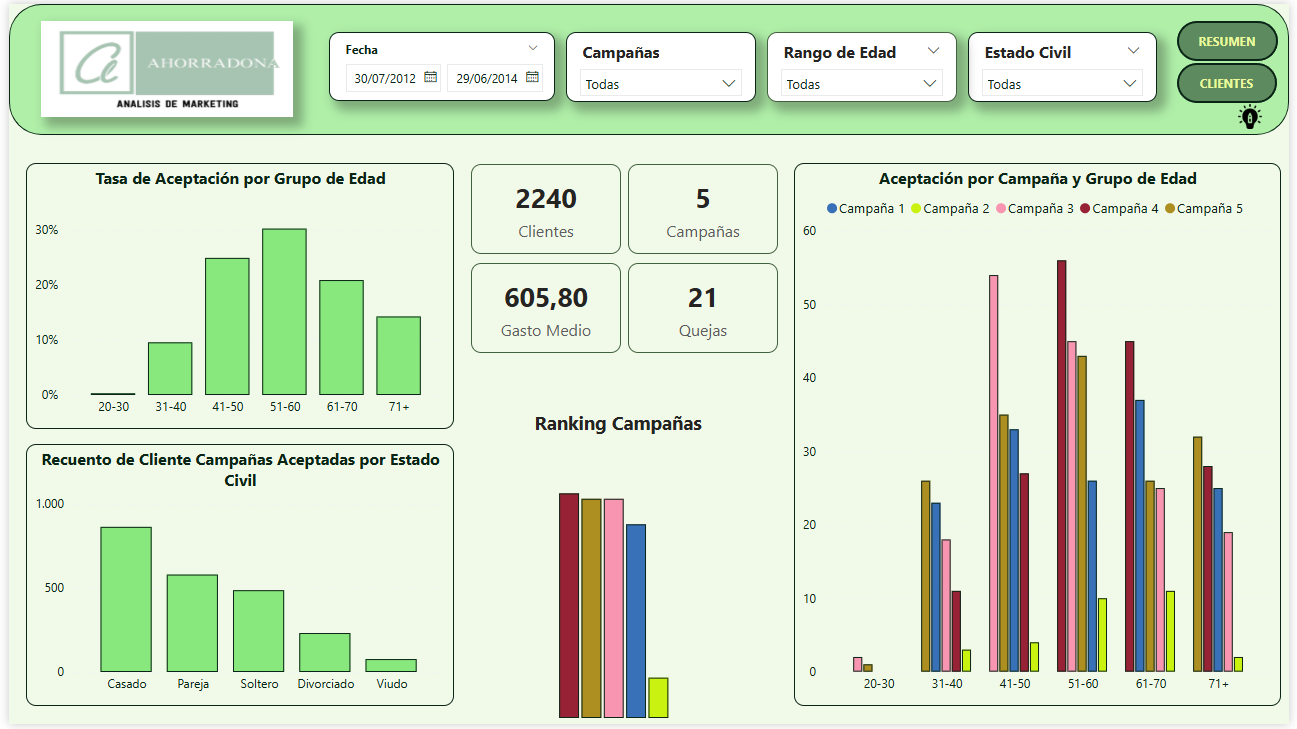

What the dashboard file says about the page in this screenshot:
{"tool":"powerbi","page":{"name":"Campañas","canvas":[1280,720],"ordinal":2},"visuals":[{"type":"shape","box":[0,0,1280,131.1],"z":0,"group":"g1"},{"type":"columnChart","fields":{"Category":["d_Clientes.Estado Civil"],"Y":["CountNonNull(d_Campañas.Cliente Campañas Aceptadas)"]},"box":[16.7,439.5,428,262.2],"z":0},{"type":"actionButton","title":"BotónLight/Dark","box":[1228.8,100,24.3,25.2],"z":500,"group":"g1"},{"type":"actionButton","title":"Botón Campañas","box":[1168.4,59.2,100,39.5],"z":625,"group":"g1"},{"type":"actionButton","title":"Botón Campañas","box":[1168.4,17.2,100.1,40],"z":750,"group":"g1"},{"type":"image","box":[31.9,17.3,252.5,95.7],"z":1000,"group":"g1"},{"type":"clusteredColumnChart","title":"Aceptación por Campaña y Grupo de Edad","fields":{"Y":["Sum(d_Campañas.Campaña 1)","Sum(d_Campañas.Campaña 2)","Sum(d_Campañas.Campaña 3)","Sum(d_Campañas.Campaña 4)","Sum(d_Campañas.Campaña 5)"],"Category":["d_Clientes.Rango de Edad"]},"box":[784.9,159.1,487.1,543],"z":1000},{"type":"slicer","fields":{"Values":["d_Clientes.Estado Civil"]},"box":[958.5,27.7,189.4,70.2],"z":1500,"group":"g1"},{"type":"slicer","title":"Fecha","fields":{"Values":["d_Calendario.Fecha"]},"box":[320.2,27.7,225.5,69.1],"z":2000,"group":"g1"},{"type":"slicer","fields":{"Values":["d_Campañas.Campañas Aceptadas"]},"box":[556.5,27.7,190.4,70.2],"z":3000,"group":"g1"},{"type":"columnChart","title":"Tasa de Aceptación por Grupo de Edad","fields":{"Category":["d_Clientes.Rango de Edad"],"Y":["Divide(CountNonNull(d_Campañas.Total Campañas Aceptadas), ScopedEval(CountNonNull(d_Campañas.Total Campañas Aceptadas), "]},"box":[16.7,159.4,428,266],"z":3000},{"type":"slicer","fields":{"Values":["d_Clientes.Rango de Edad"]},"box":[757.7,27.7,190,70],"z":4000,"group":"g1"},{"type":"clusteredColumnChart","title":"Ranking Campañas","fields":{"Y":["Sum(d_Campañas.Campaña 4)","Sum(d_Campañas.Campaña 3)","Sum(d_Campañas.Campaña 5)","Sum(d_Campañas.Campaña 1)","Sum(d_Campañas.Campaña 2)"]},"box":[389.4,406.4,440.4,313.8],"z":4000},{"type":"card","fields":{"Values":["DAX Medidas.Total Clientes"]},"box":[461.7,159.6,150,90],"z":5000},{"type":"card","fields":{"Values":["DAX Medidas.Campañas Totales"]},"box":[619.1,159.6,150,90.4],"z":6000},{"type":"card","fields":{"Values":["DAX Medidas.Gasto Promedio Cliente"]},"box":[461.7,258.5,150,90.4],"z":7000},{"type":"group","id":"g1","title":"Panel Superior","box":[0,0,1280,131.1],"z":8001},{"type":"card","fields":{"Values":["DAX Medidas.Clientes con Quejas"]},"box":[619.1,258.5,150,90.4],"z":8002}]}

Visuals, with their boxes in screenshot pixels (x1, y1, x2, y2), scaled from the page's 1280x720 canvas onto the 1297x729 screenshot:
shape: box=[0, 0, 1296, 133]
columnChart - d_Clientes.Estado Civil x CountNonNull(d_Campañas.Cliente Campañas Aceptadas): box=[17, 445, 451, 710]
"BotónLight/Dark" actionButton: box=[1245, 101, 1270, 127]
"Botón Campañas" actionButton: box=[1184, 60, 1285, 100]
"Botón Campañas" actionButton: box=[1184, 17, 1285, 58]
image: box=[32, 18, 288, 114]
"Aceptación por Campaña y Grupo de Edad" clusteredColumnChart: box=[795, 161, 1289, 711]
slicer - d_Clientes.Estado Civil: box=[971, 28, 1163, 99]
"Fecha" slicer: box=[324, 28, 553, 98]
slicer - d_Campañas.Campañas Aceptadas: box=[564, 28, 757, 99]
"Tasa de Aceptación por Grupo de Edad" columnChart: box=[17, 161, 451, 431]
slicer - d_Clientes.Rango de Edad: box=[768, 28, 960, 99]
"Ranking Campañas" clusteredColumnChart: box=[395, 411, 841, 728]
card - DAX Medidas.Total Clientes: box=[468, 162, 620, 253]
card - DAX Medidas.Campañas Totales: box=[627, 162, 779, 253]
card - DAX Medidas.Gasto Promedio Cliente: box=[468, 262, 620, 353]
"Panel Superior" group: box=[0, 0, 1296, 133]
card - DAX Medidas.Clientes con Quejas: box=[627, 262, 779, 353]
